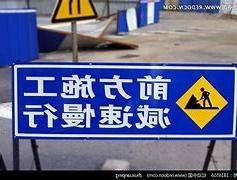sign: (13, 64, 237, 139)
